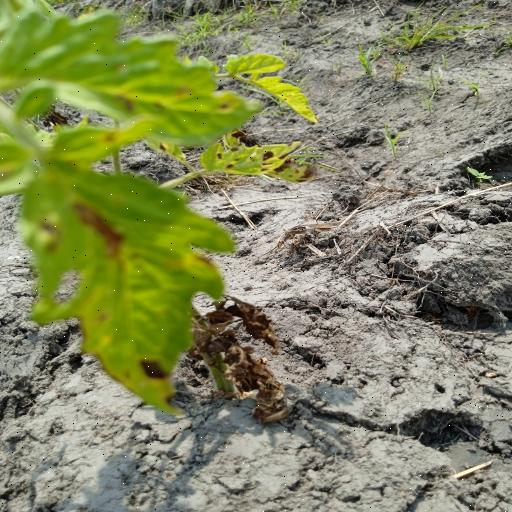Tomato_Brown_Spots: (17, 170, 232, 415)
